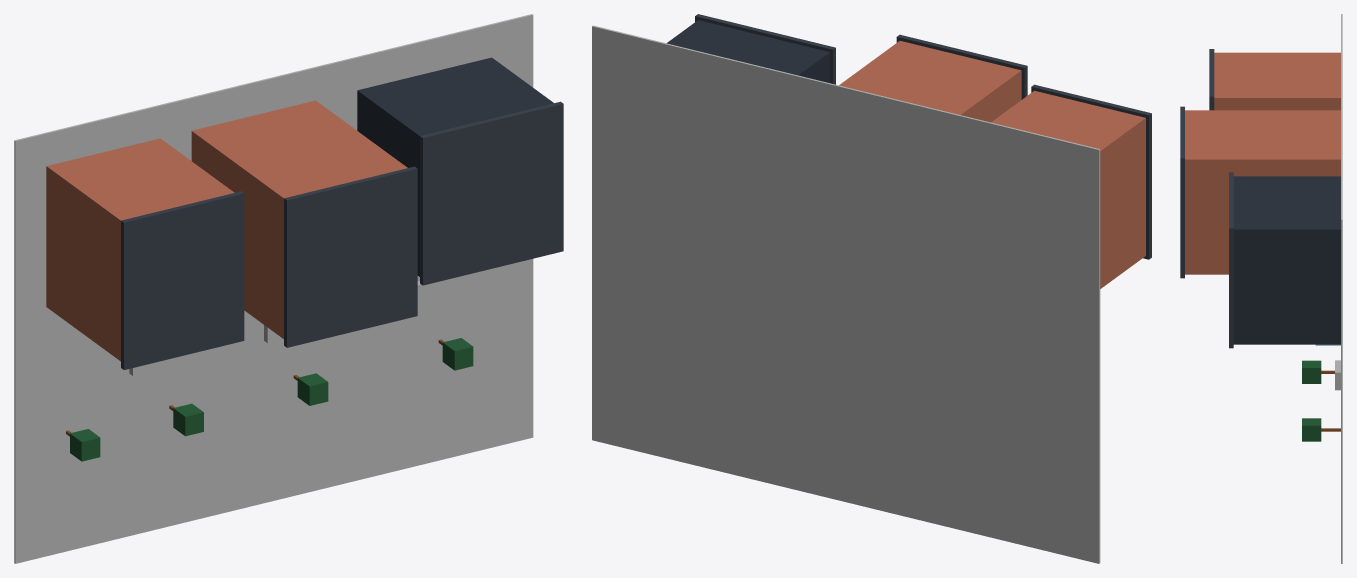
File: centrum_van_heekplein.obj
3 renders of one model, left to right at view 1: azimuth 30°, elevation 25°; view 2: azimuth 150°, elevation 25°; view 3: azimuth 270°, elevation 25°, orthographic. The views are drawn at different scales.
Visible parts, largest first — view 1: centrum_van_heekplein; view 2: centrum_van_heekplein; view 3: centrum_van_heekplein.
Boxes of the visible parts, left/top/right/bottom form: centrum_van_heekplein: left=14, top=14, right=563, bottom=563; centrum_van_heekplein: left=592, top=14, right=1151, bottom=563; centrum_van_heekplein: left=1180, top=14, right=1342, bottom=563.
Bounding box in the file's own units: 50 × 39 × 16.7.
